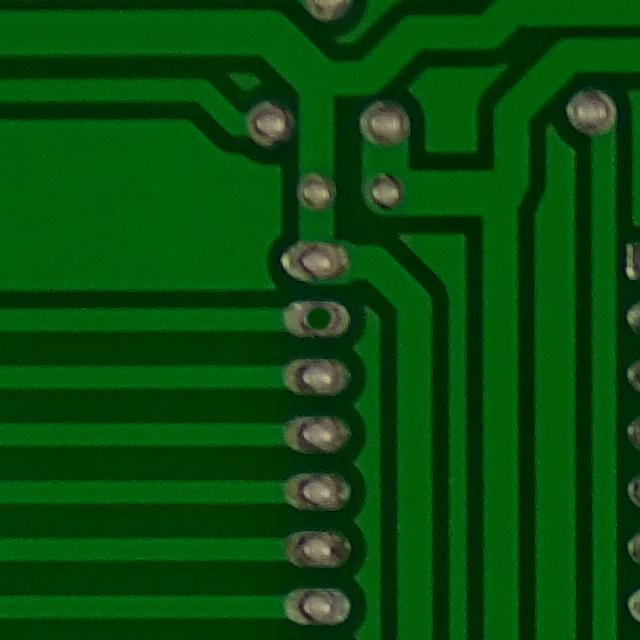missing_hole: (285, 292, 356, 348)
